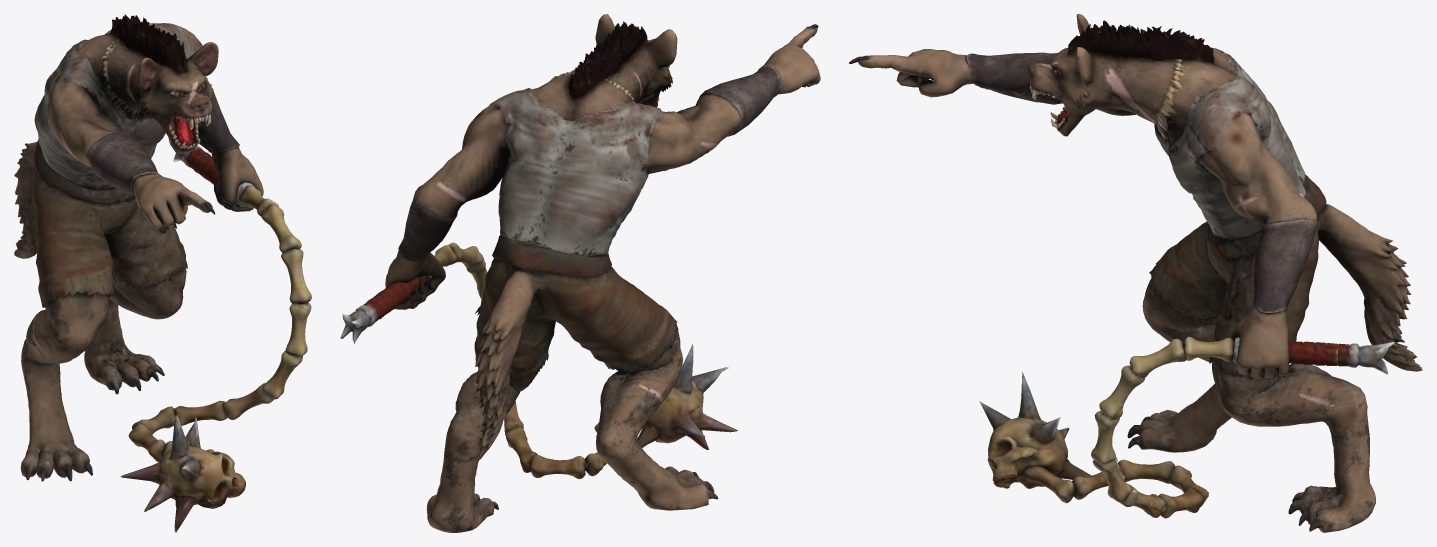
The model's file is MZ4250 - Gnoll Fang of Yeenoghu_2025_hyena.glb.
3 renders of one model, left to right at view 1: azimuth 30°, elevation 25°; view 2: azimuth 150°, elevation 25°; view 3: azimuth 270°, elevation 25°, orthographic. The views are drawn at different scales.
Parts seen in each view (by area): view 1: Body.001; view 2: Body.001; view 3: Body.001.
Part boxes in pixels (left/top/right/bottom): Body.001: left=14, top=14, right=311, bottom=532; Body.001: left=340, top=14, right=820, bottom=532; Body.001: left=849, top=14, right=1422, bottom=532.
Bounding box in the file's own units: 54.83 × 84.55 × 91.9.
2 materials, 2 textured.
